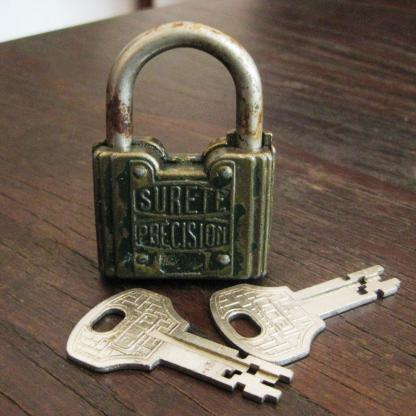key: (58, 271, 391, 399)
